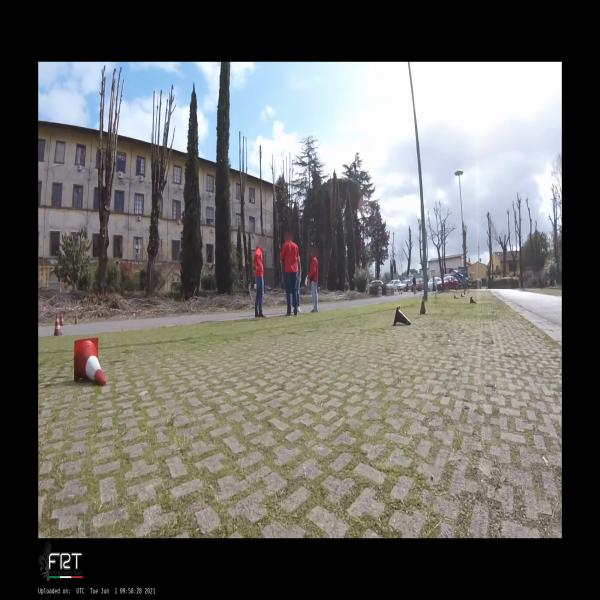large_orange_cone: (54, 313, 62, 335), (60, 312, 64, 326), (74, 314, 79, 324)
orange_cone: (74, 338, 106, 387)
unknown_cone: (394, 305, 411, 325), (419, 296, 428, 314), (470, 296, 476, 304), (454, 294, 459, 299), (461, 293, 465, 297)
